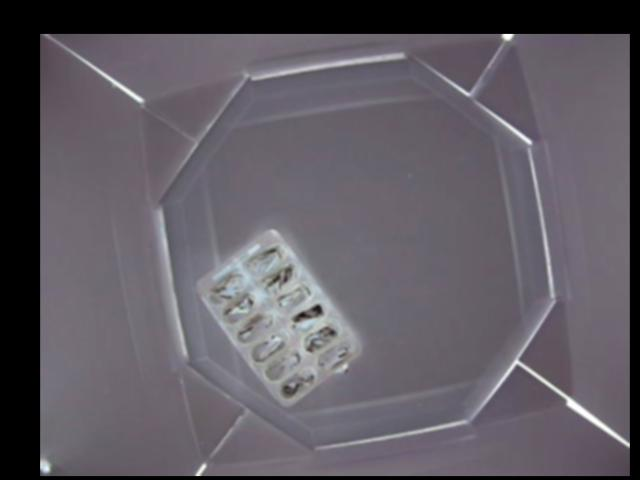Medicine: (194, 229, 357, 405)
